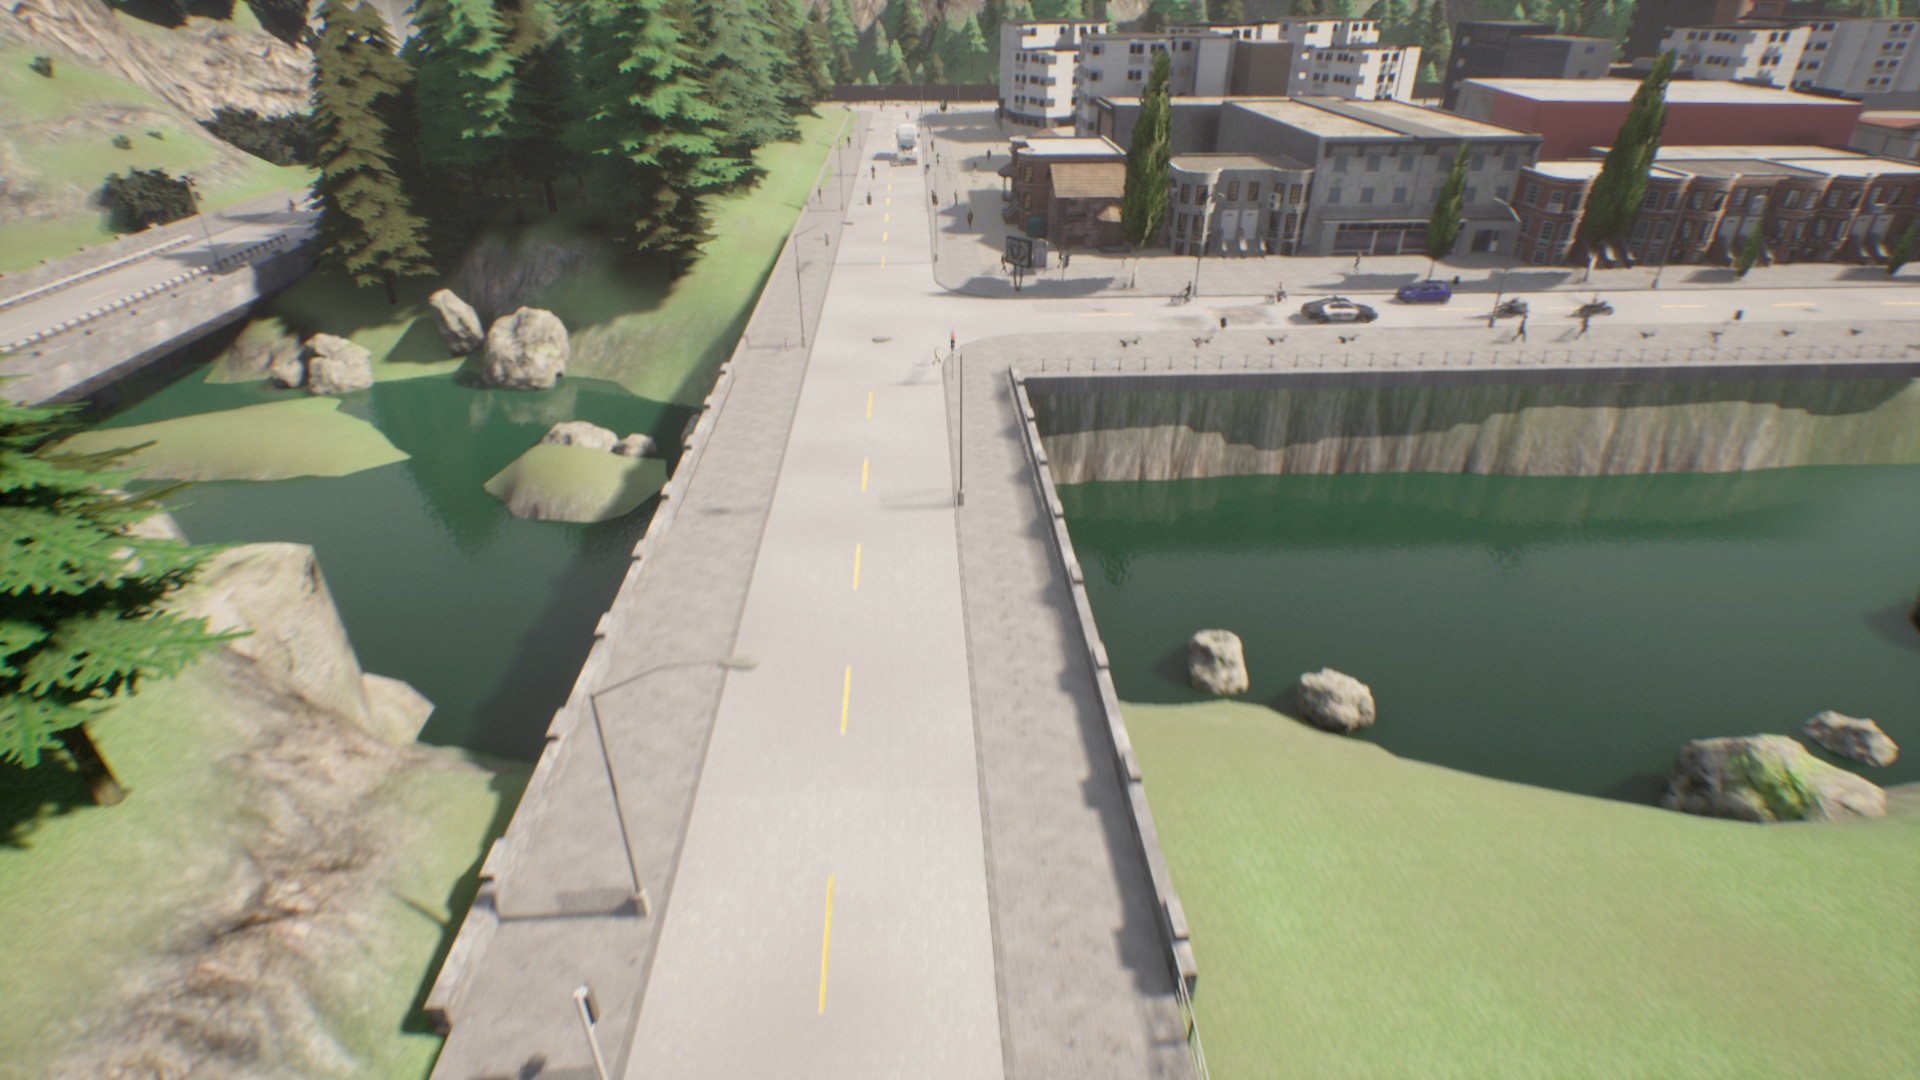Car: (1299, 297, 1378, 324), (1389, 280, 1458, 301)
Motorcycle: (1493, 293, 1528, 318), (1578, 293, 1614, 318), (862, 193, 880, 206)
Truck: (898, 125, 918, 166)
